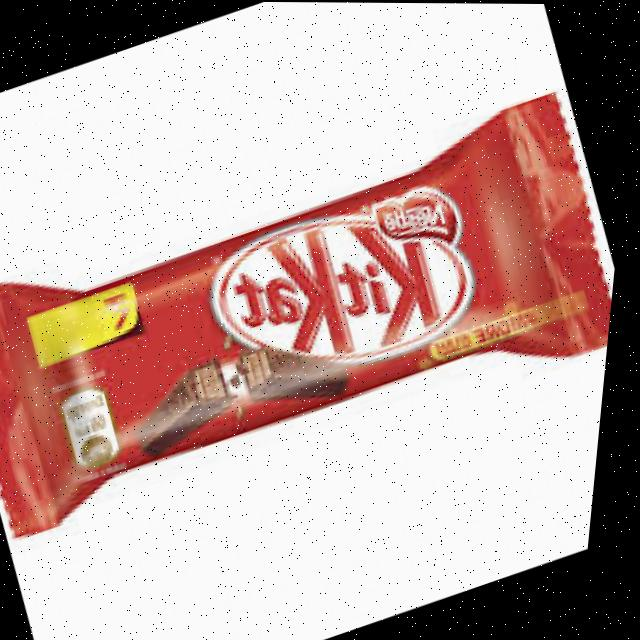kitkat: (0, 86, 633, 550)
